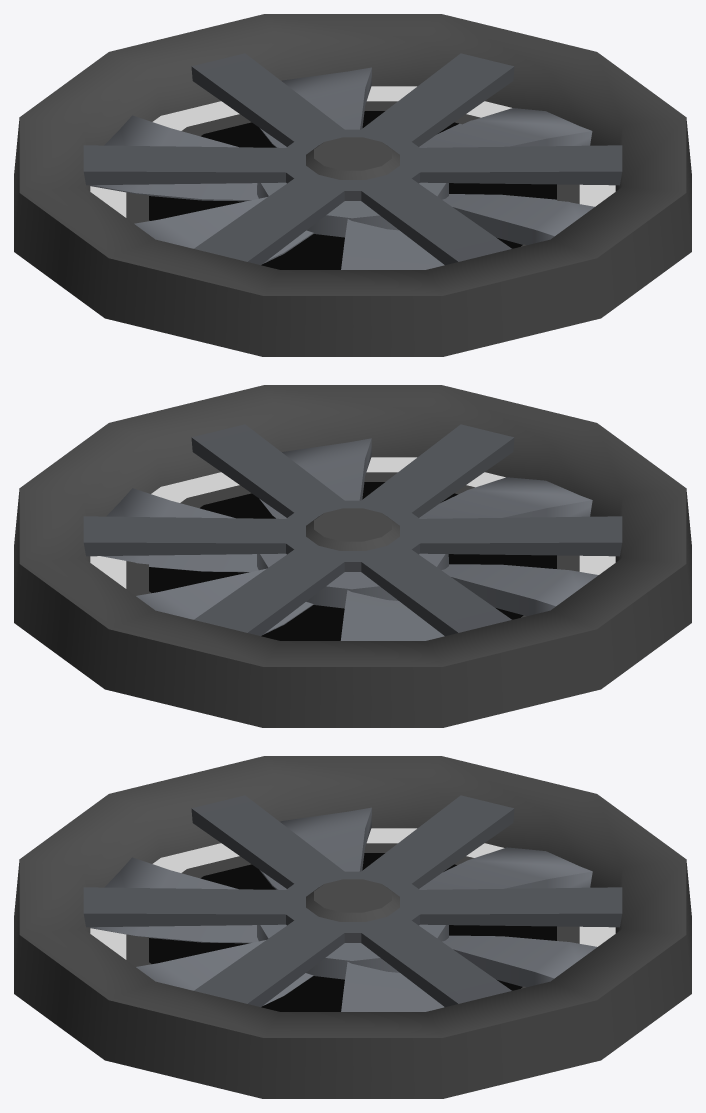
Rendered from scrubber.glb.
The picture shows the model from 3 angles, top to bottom: view 1: azimuth 30°, elevation 25°; view 2: azimuth 150°, elevation 25°; view 3: azimuth 270°, elevation 25°; orthographic projection.
Parts seen in each view (by area): view 1: FloorScrubberFan; view 2: FloorScrubberFan; view 3: FloorScrubberFan.
Part boxes in pixels (x1,y1,x2,y2): FloorScrubberFan: [14, 14, 691, 356]; FloorScrubberFan: [14, 385, 691, 727]; FloorScrubberFan: [14, 756, 691, 1098].
Size of the model in its own units: 0.6614 by 0.0679 by 0.6614.
2 materials, 1 textured.
